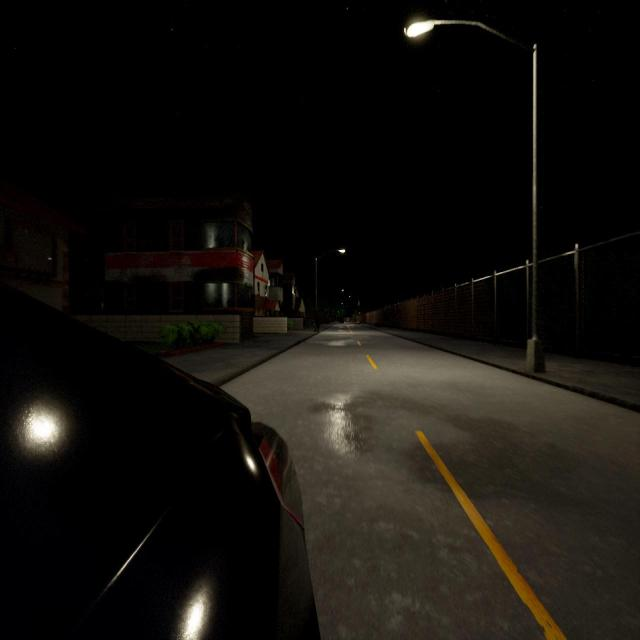Pedestrian: (314, 309, 320, 332)
Vehicle: (1, 284, 320, 638)
traffic_light: (359, 311, 361, 316)
